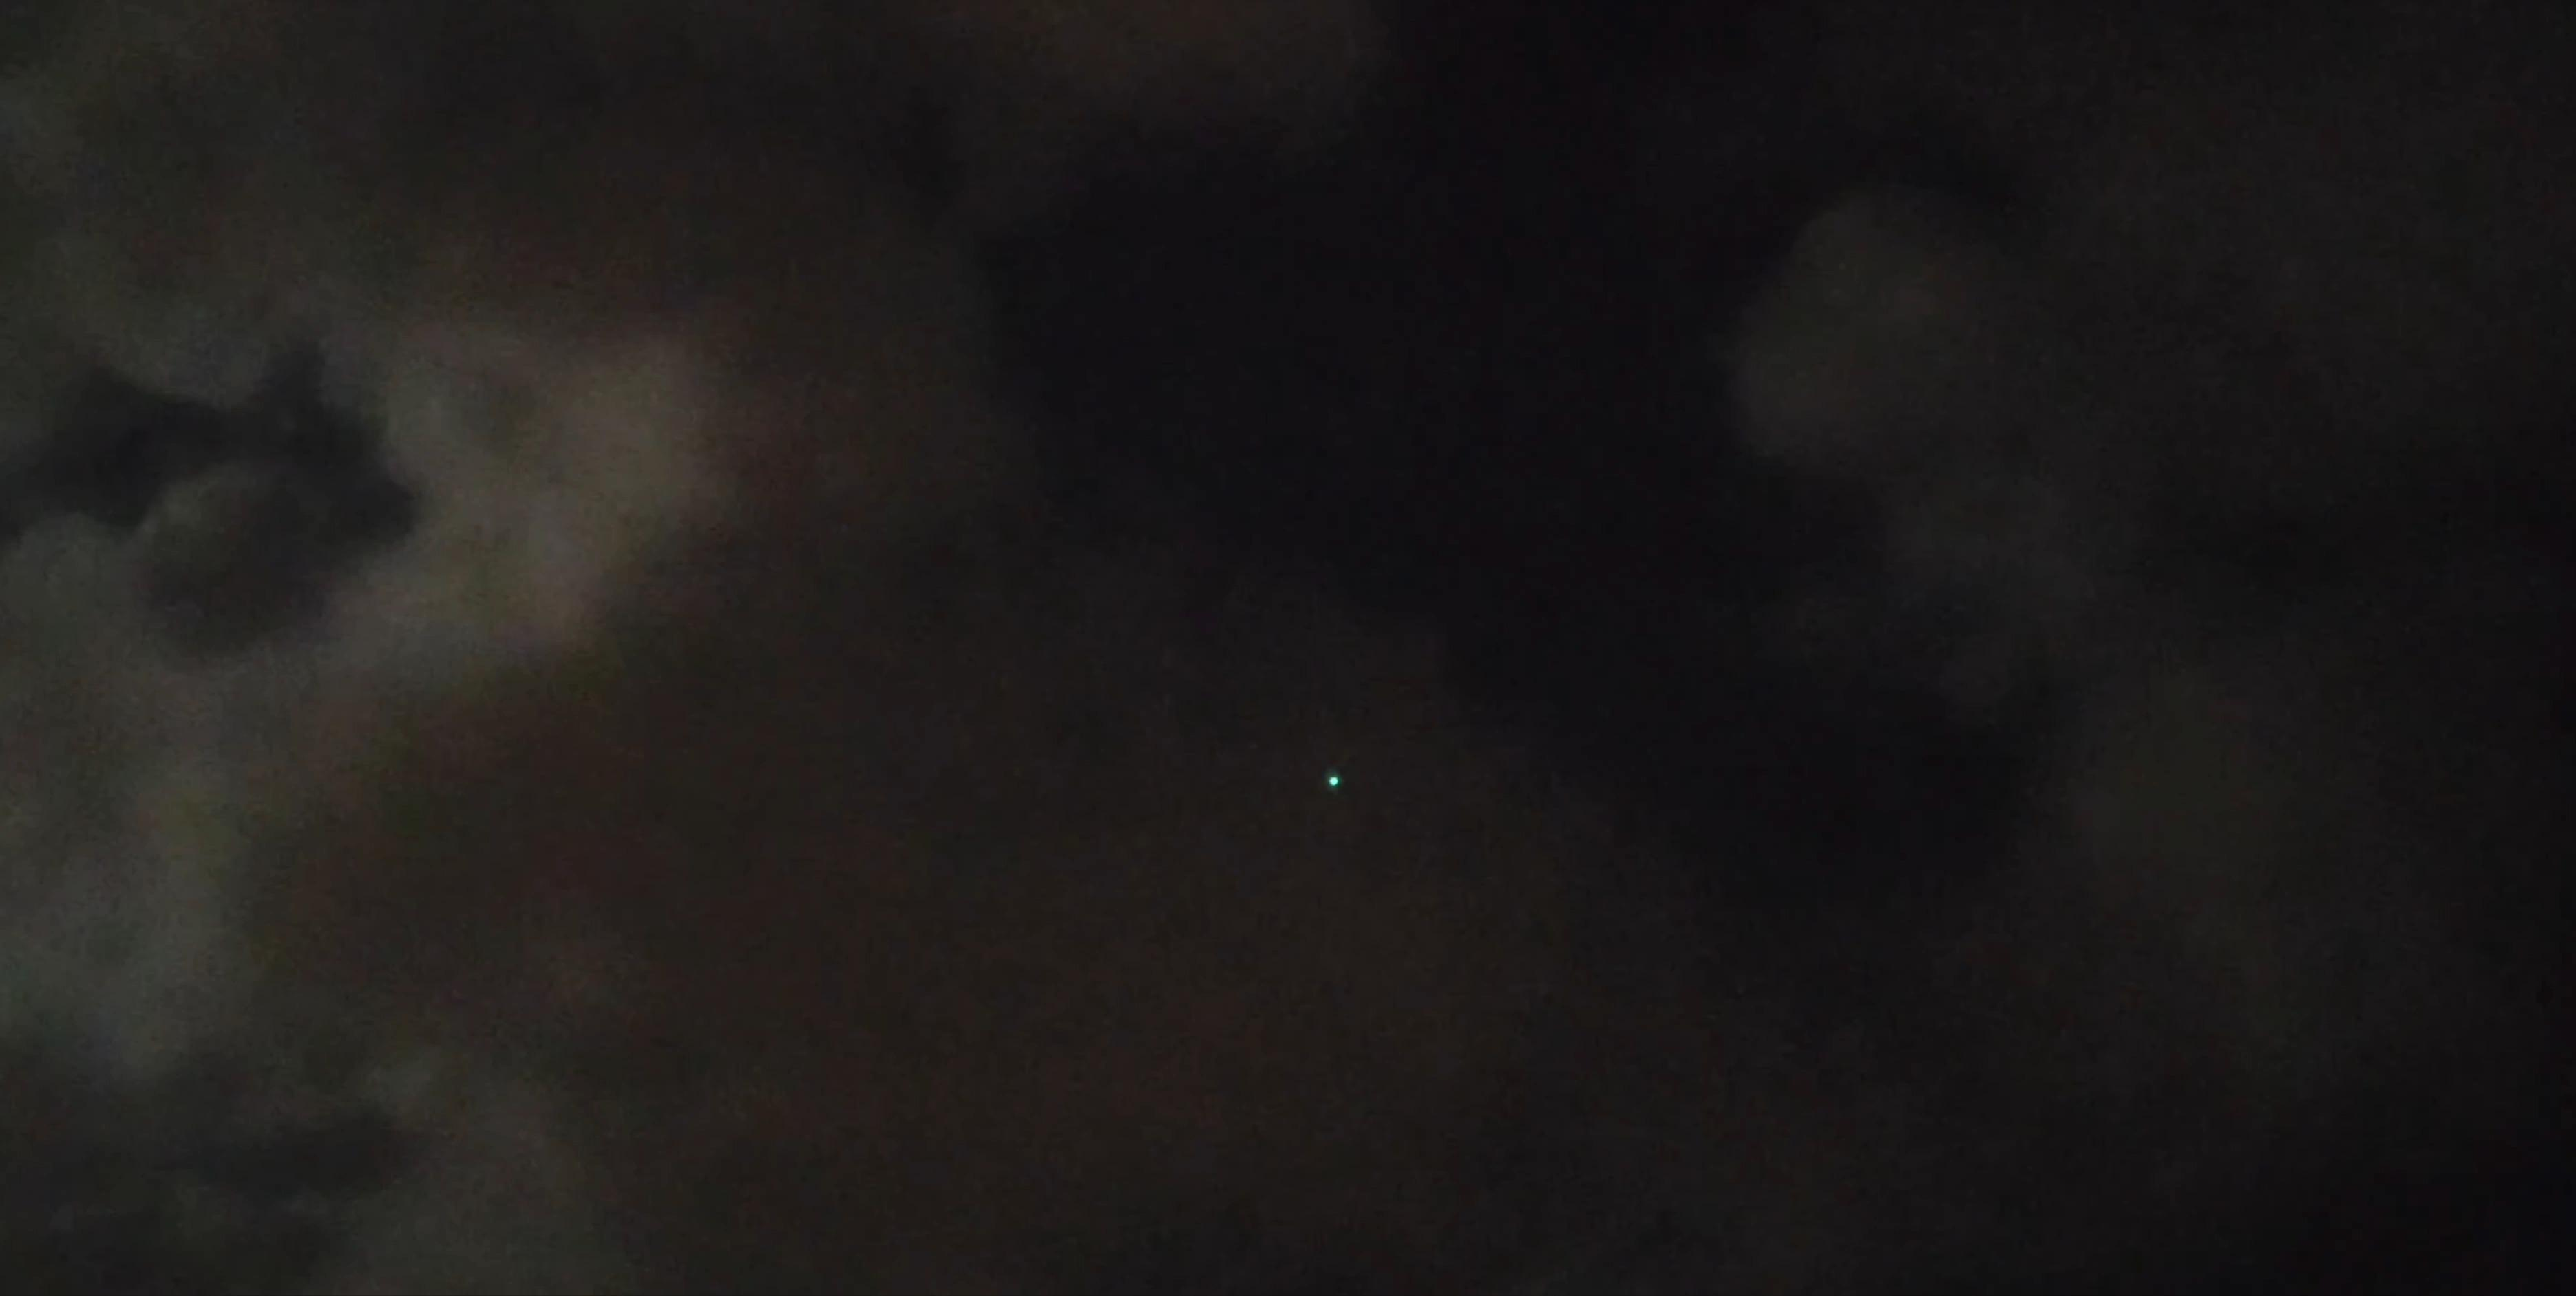Plane: (1315, 747, 1363, 812)
